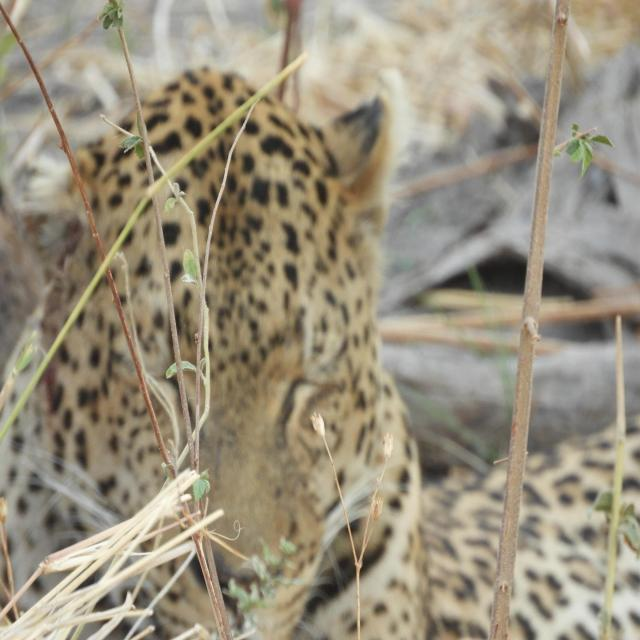Leopard: (0, 71, 638, 640)
